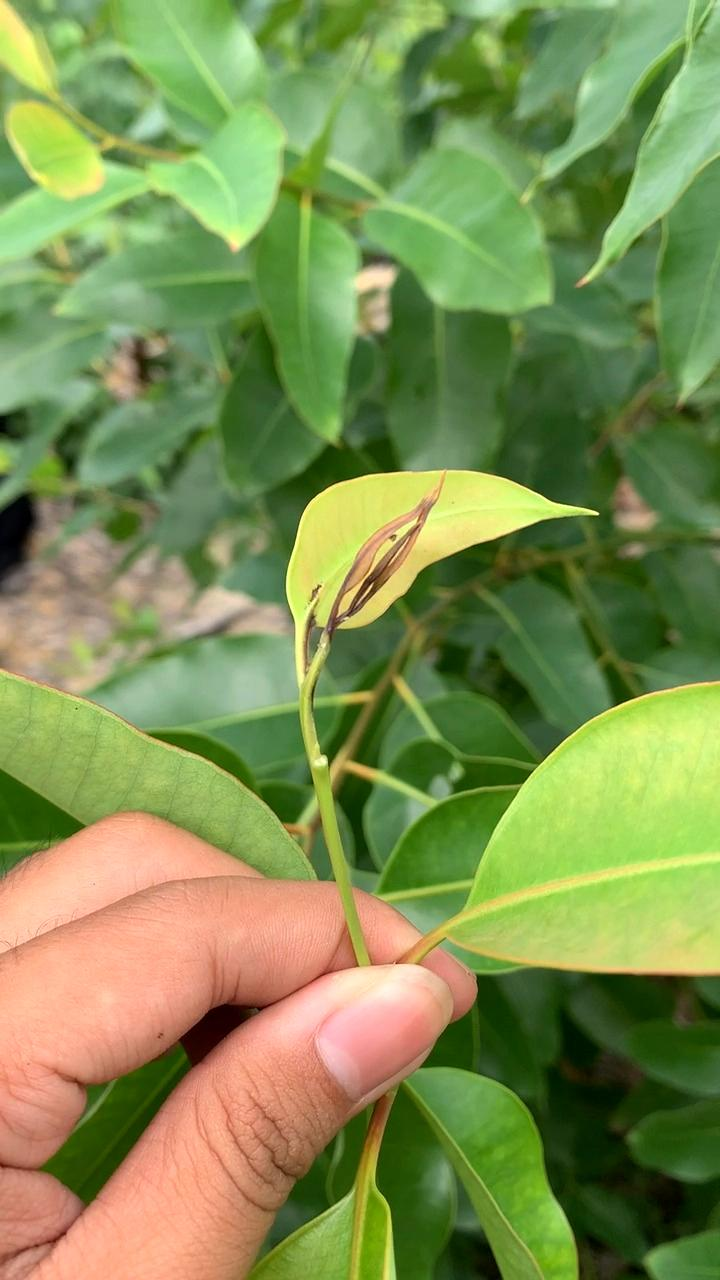Helopeltis-Withered Sprout: (318, 468, 451, 651)
